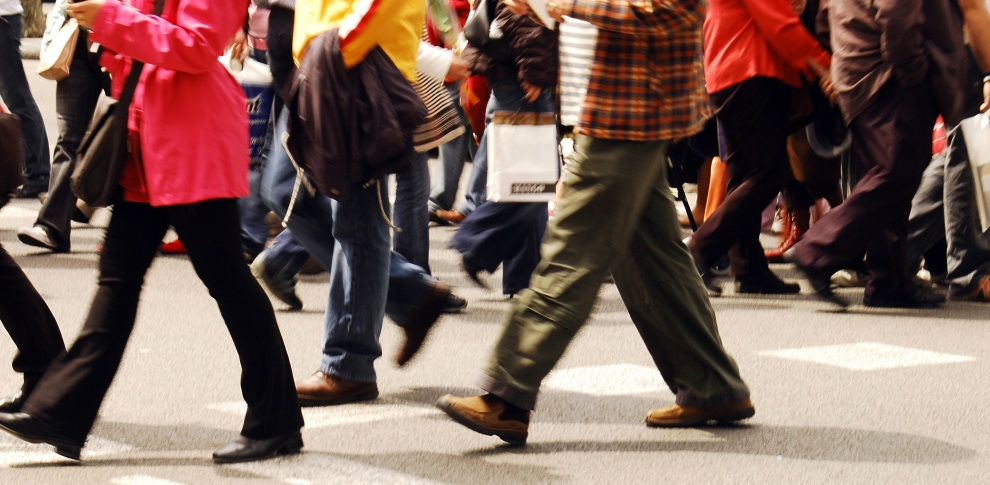pedestrian: (421, 1, 789, 446), (2, 1, 321, 470)
